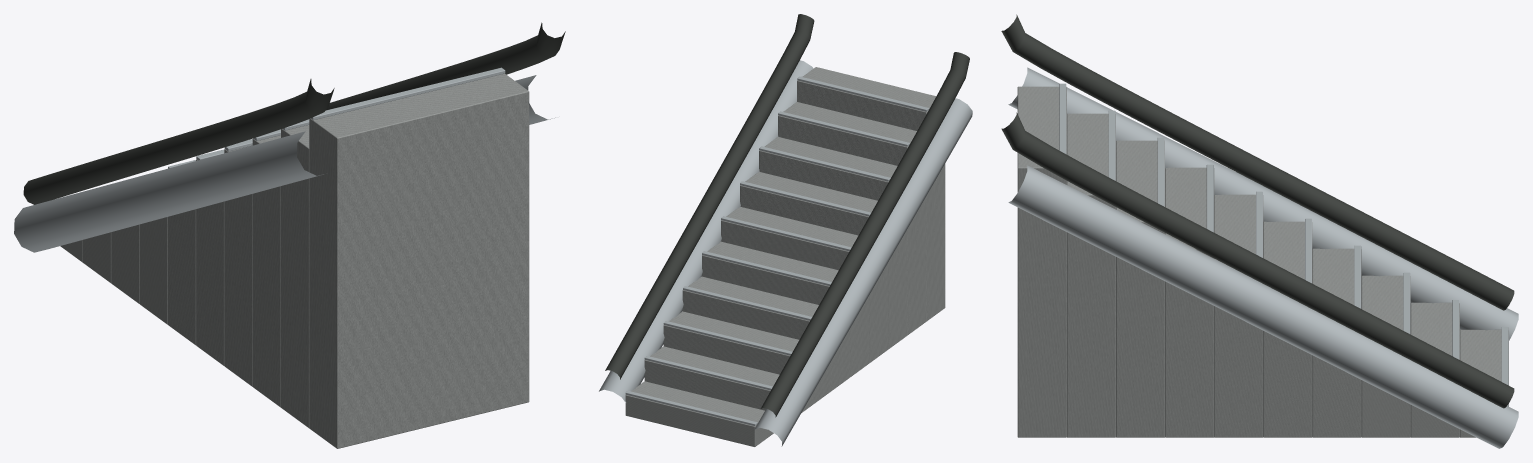
File: liminal-spaces-kit-static-escalator-5289fe66__25262.glb
The picture shows the model from 3 angles, left to right: view 1: azimuth 30°, elevation 25°; view 2: azimuth 150°, elevation 25°; view 3: azimuth 270°, elevation 25°; orthographic projection. The views are drawn at different scales.
Visible parts, largest first — view 1: static-escalator; view 2: static-escalator; view 3: static-escalator.
Boxes of the visible parts, x1=… form: static-escalator: x1=14, y1=22, x2=565, y2=448; static-escalator: x1=599, y1=14, x2=972, y2=446; static-escalator: x1=1001, y1=14, x2=1518, y2=448.
Size of the model in its own units: 1.56 by 2.09 by 2.95.
Materials: 3 (1 with a texture image).
